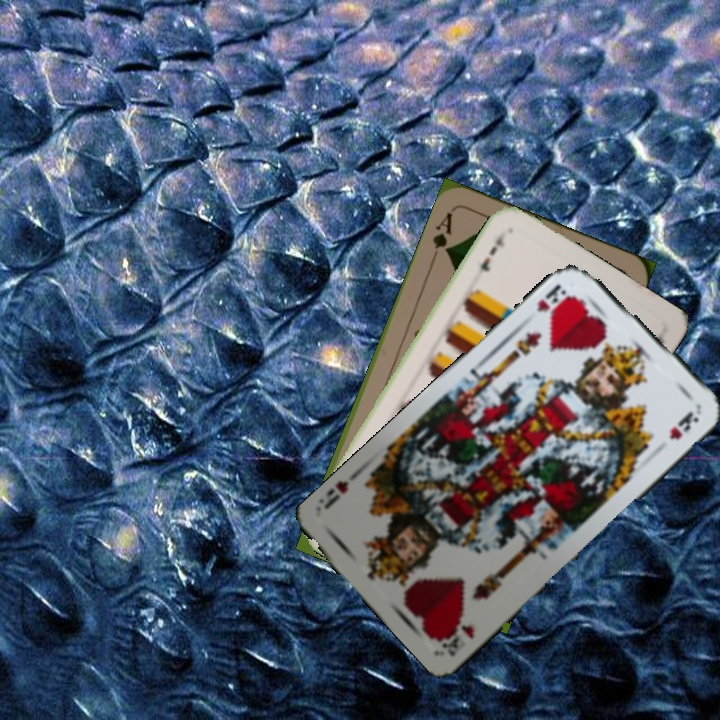E7: (476, 229, 509, 274)
GA: (427, 208, 455, 263)
HK: (437, 617, 477, 658), (533, 279, 569, 315)
